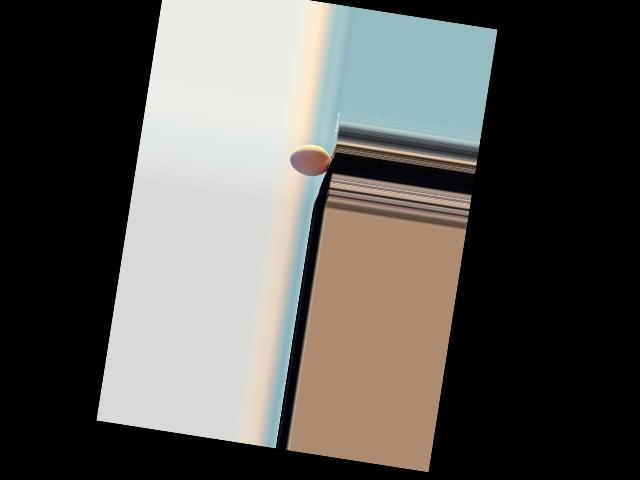egg: (287, 141, 332, 178)
